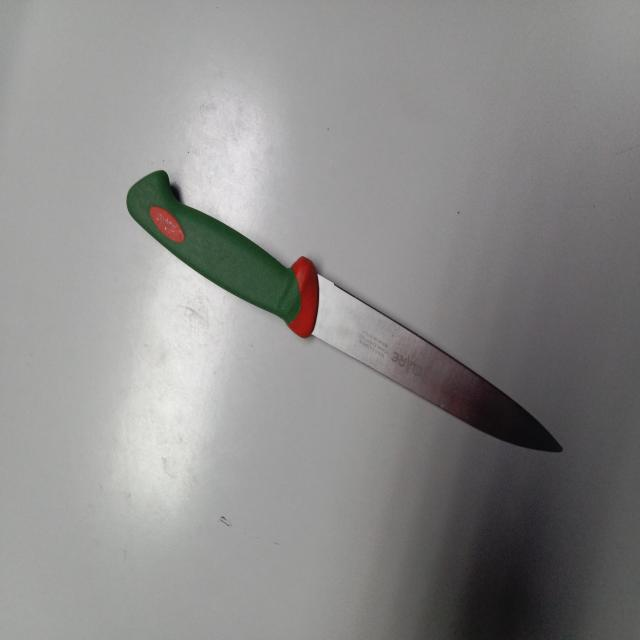Knife: (126, 169, 563, 452)
